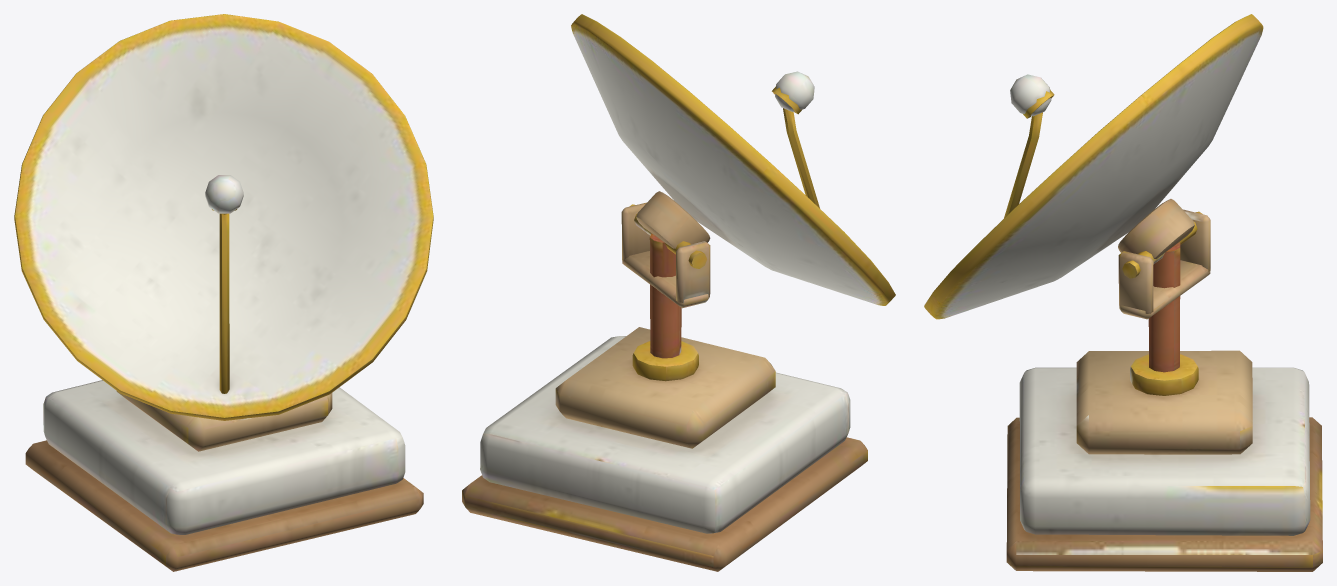
The model's file is satellite-dish.glb.
The picture shows the model from 3 angles, left to right: view 1: azimuth 30°, elevation 25°; view 2: azimuth 150°, elevation 25°; view 3: azimuth 270°, elevation 25°; orthographic projection. The views are drawn at different scales.
Parts seen in each view (by area): view 1: dish, mount; view 2: mount, dish; view 3: mount, dish.
Part boxes in pixels (x1,y1,x2,y2): dish: (14, 14, 433, 420); mount: (25, 380, 423, 571); mount: (462, 202, 867, 571); dish: (571, 14, 895, 305); mount: (1006, 209, 1322, 571); dish: (924, 14, 1263, 319).
Bounding box in the file's own units: 0.6527 × 0.8456 × 0.633.
5 materials, 5 textured.
